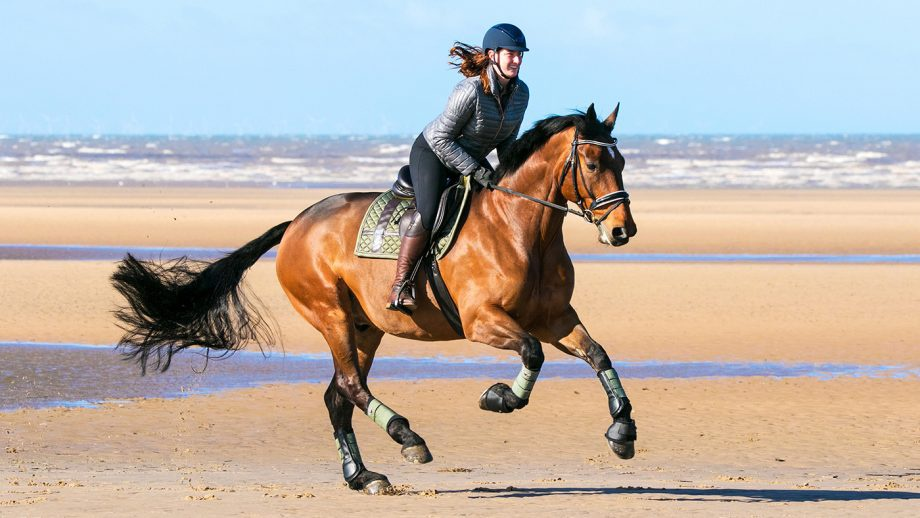Horse: (94, 108, 648, 474)
Person: (407, 18, 541, 332)
